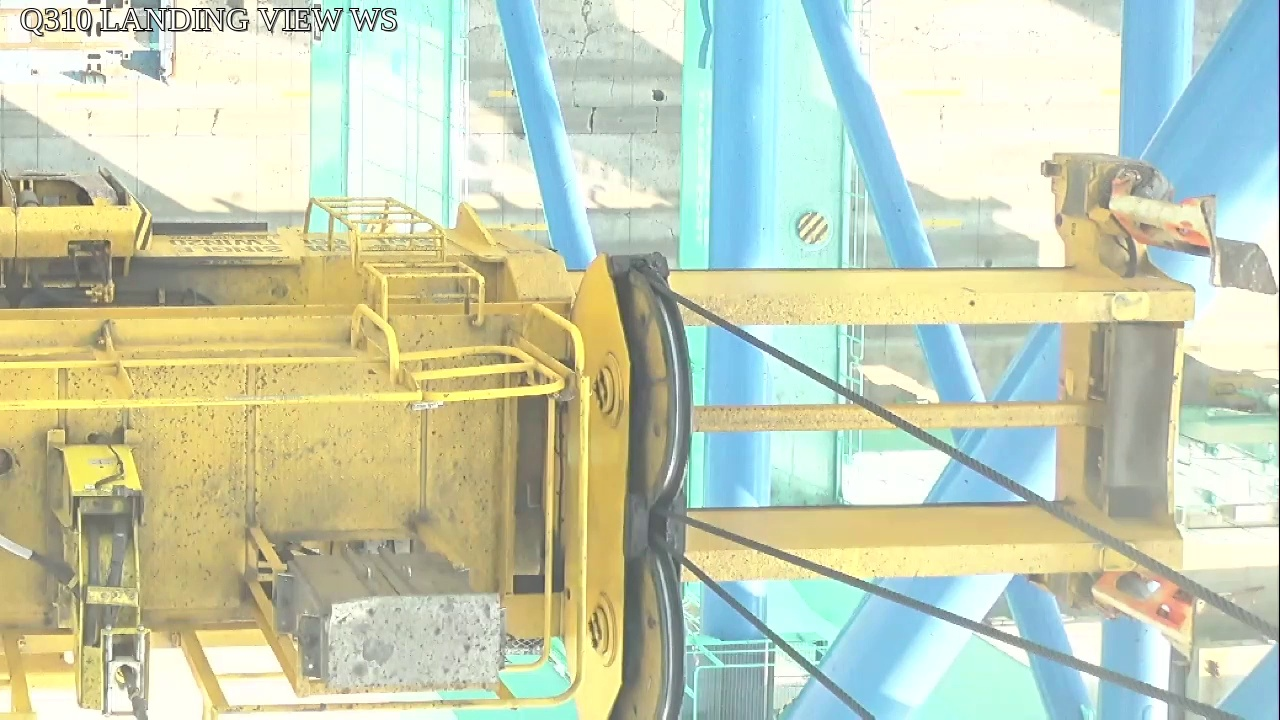right: (561, 255, 689, 720)
